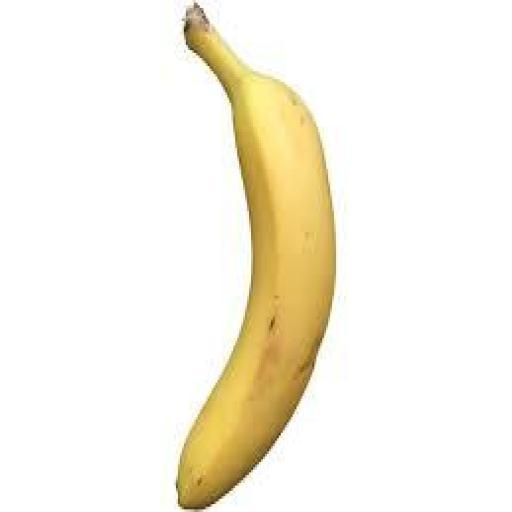banana: (176, 6, 336, 509)
